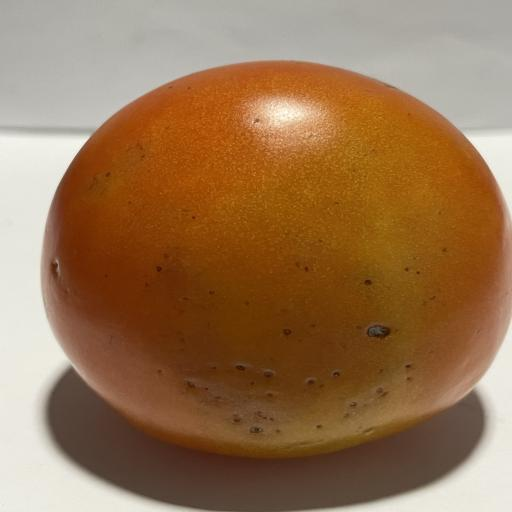ripe: (42, 61, 512, 457)
